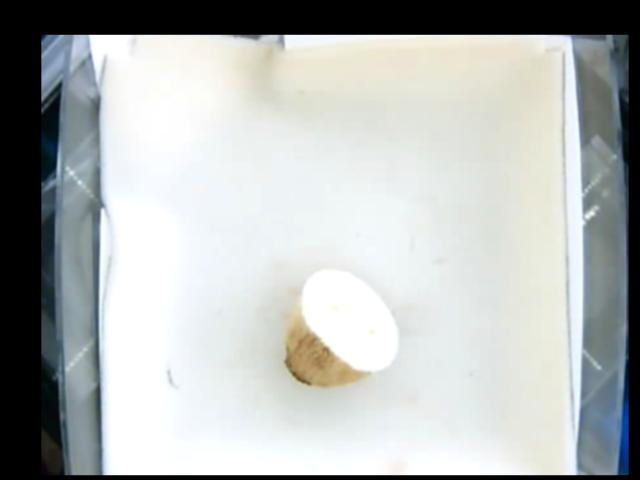Mooli: (281, 266, 399, 384)
